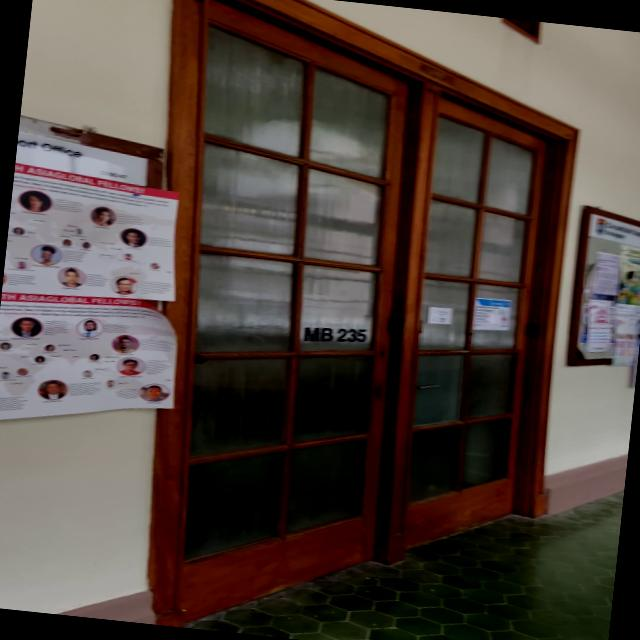room235Window: (300, 321, 368, 348)
